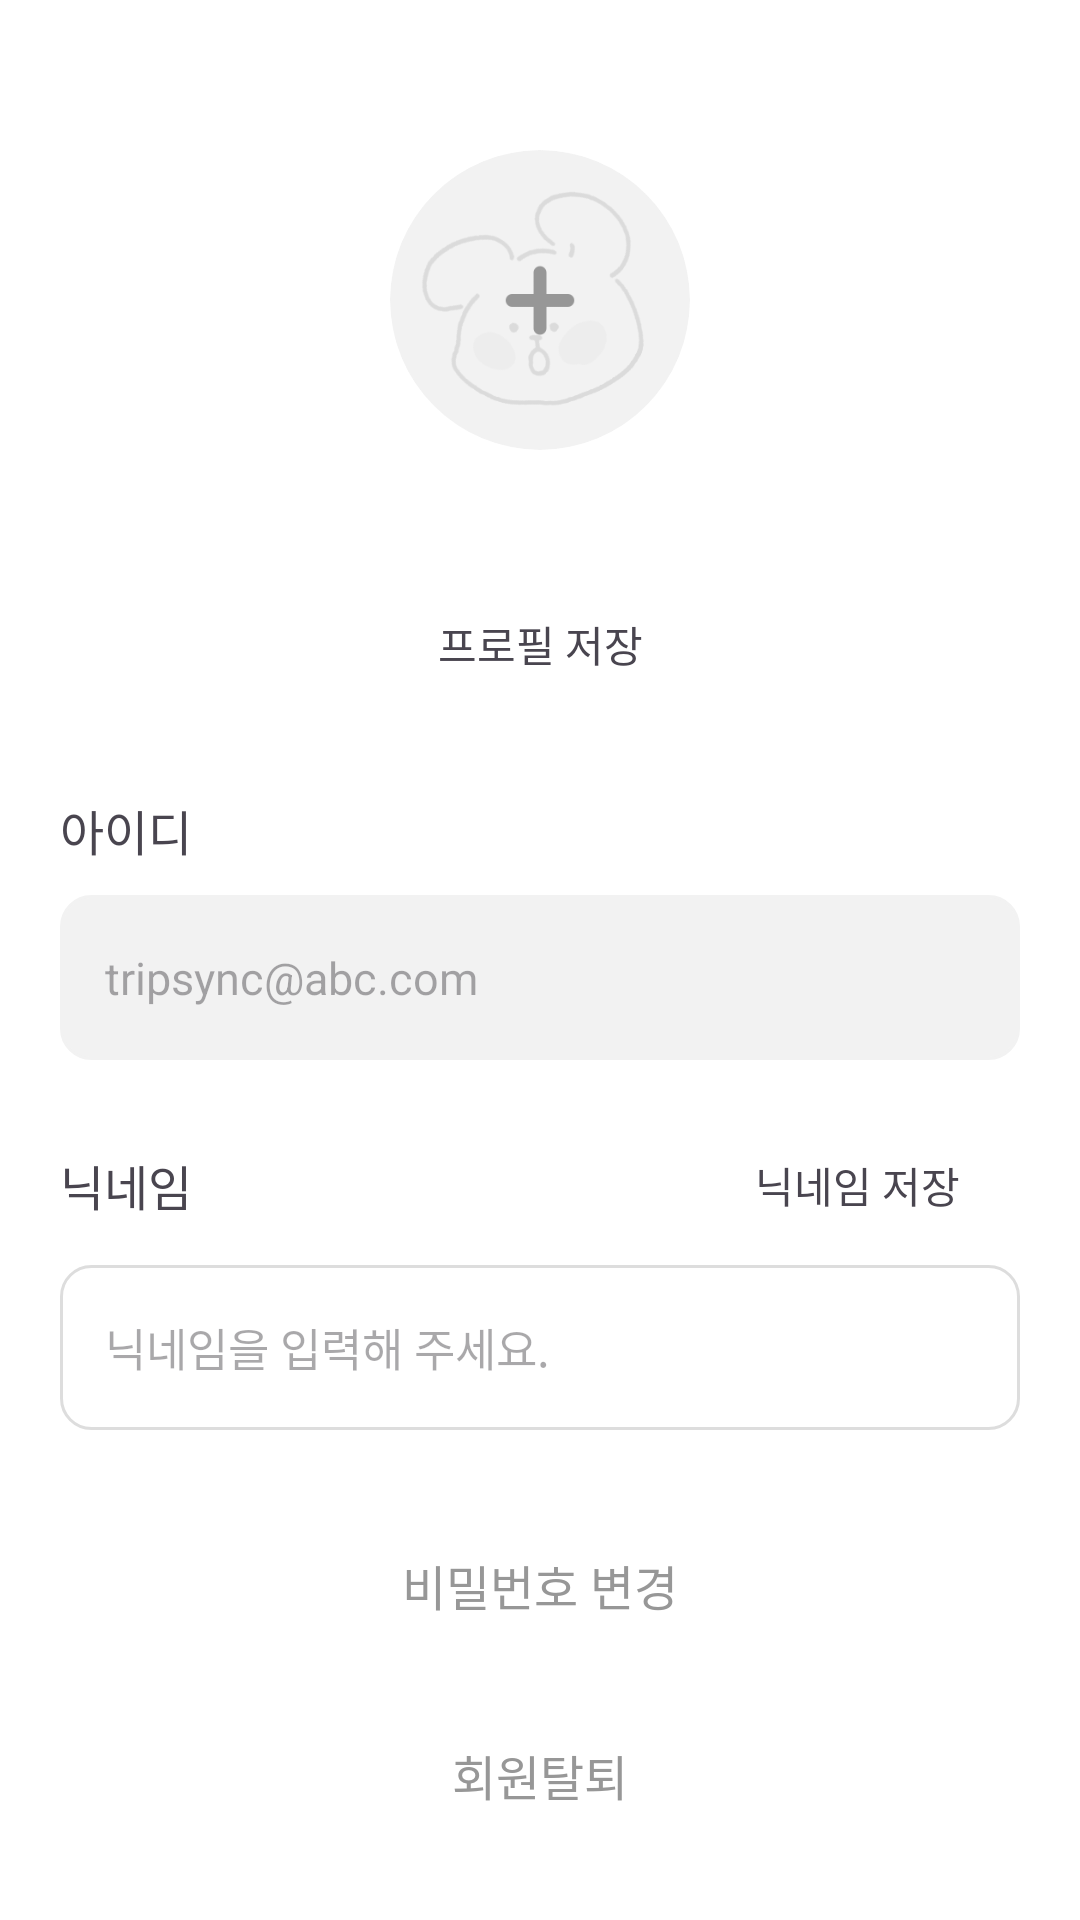

Point at icon controls on the screen. Image size 1080px×1920px, points as (x,y).
defalt profile edit: (540,300)
